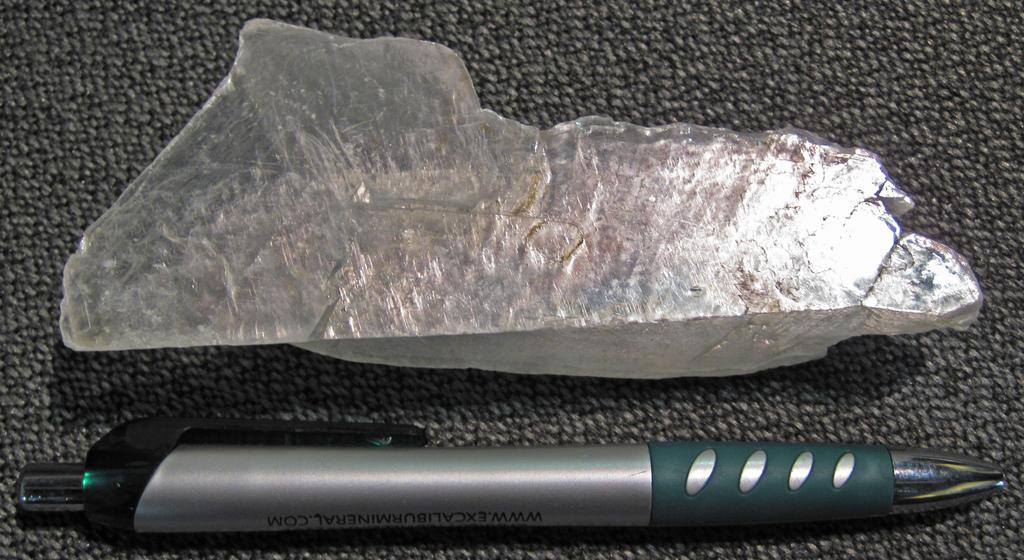pen: (20, 427, 1023, 557)
